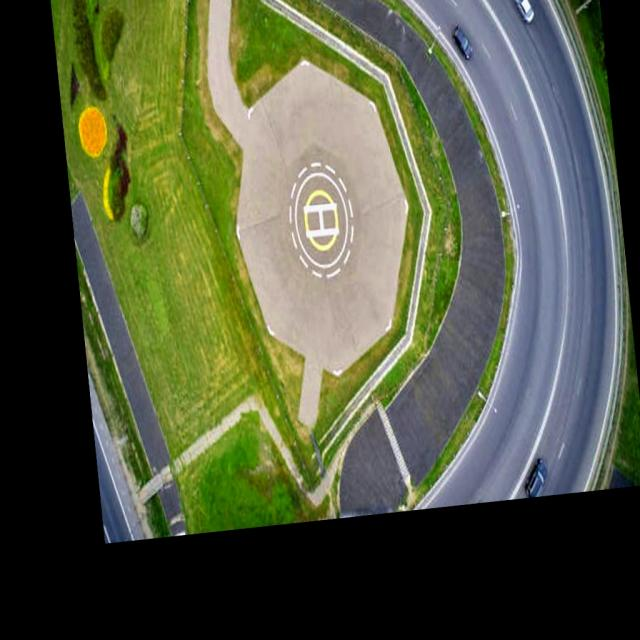helipad: (300, 187, 340, 251)
